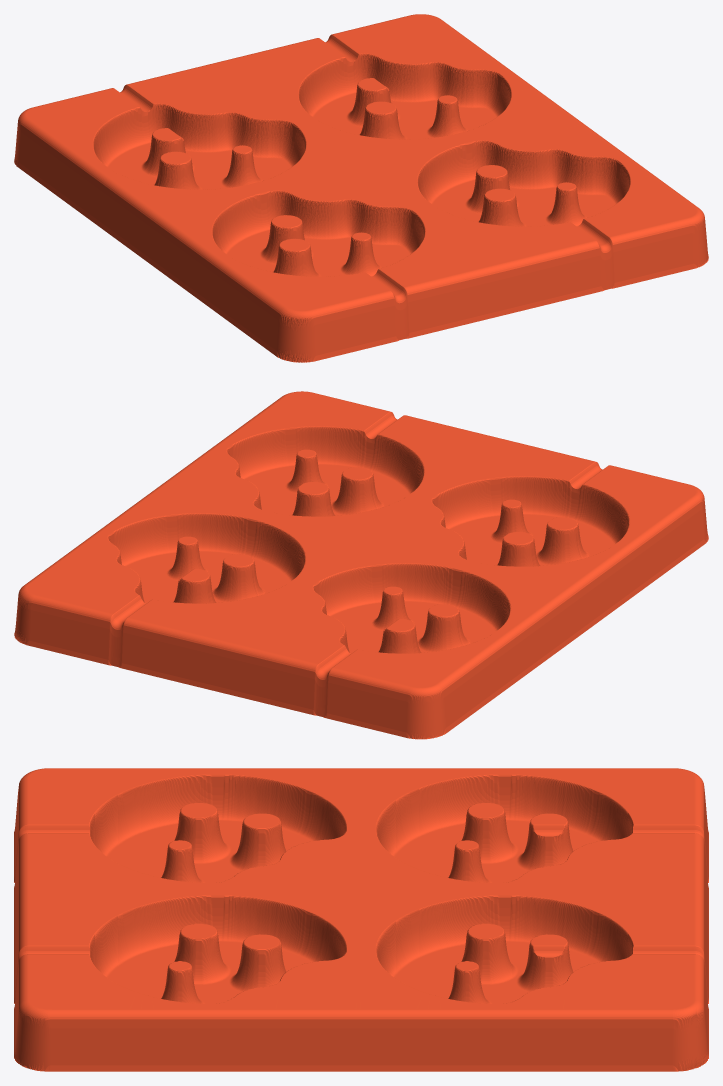
File: mold.glb
3 views of the same model, one above another, from view 1: azimuth 30°, elevation 25°; view 2: azimuth 150°, elevation 25°; view 3: azimuth 270°, elevation 25° (orthographic). The views are drawn at different scales.
Parts seen in each view (by area): view 1: geometry_0; view 2: geometry_0; view 3: geometry_0.
Boxes of the visible parts, box(x1,y1,x2,y2) form: geometry_0: box(14, 14, 708, 362); geometry_0: box(14, 391, 708, 739); geometry_0: box(14, 768, 708, 1071).
Bounding box in the file's own units: 0.1491 × 0.0155 × 0.1735.
